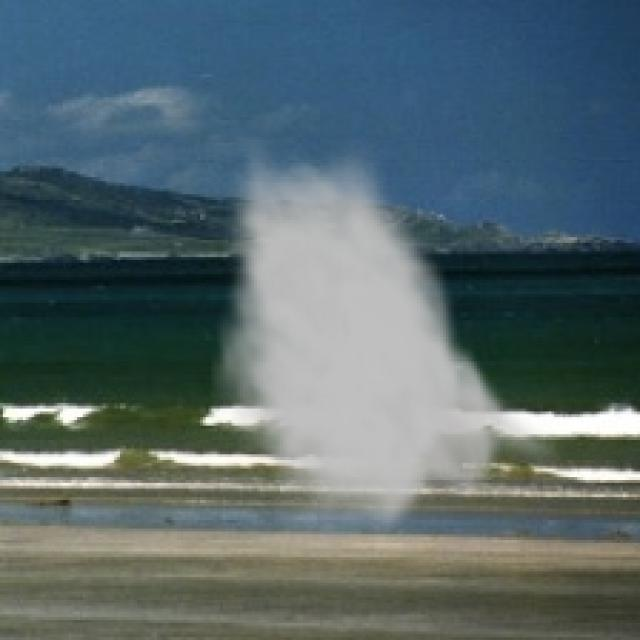Smoke: (211, 134, 566, 543)
